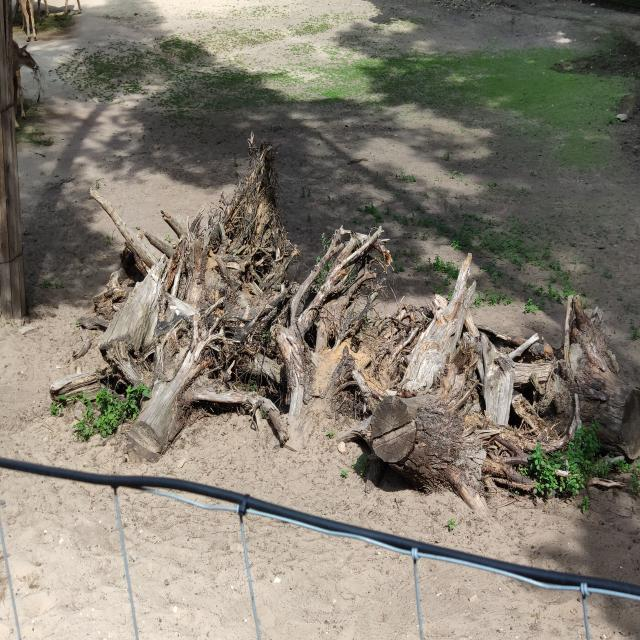restos de madeira: (360, 384, 503, 504), (545, 334, 640, 464), (188, 233, 290, 336), (88, 179, 187, 272), (304, 222, 388, 325), (400, 265, 462, 400), (485, 443, 619, 502), (402, 399, 472, 503), (96, 260, 167, 362), (473, 338, 533, 446), (317, 349, 386, 441), (354, 302, 437, 378), (196, 387, 284, 448), (271, 331, 312, 440), (232, 187, 283, 263), (51, 358, 140, 401), (177, 320, 216, 384), (289, 261, 329, 321), (483, 453, 538, 496), (511, 390, 552, 431), (508, 358, 556, 388), (156, 316, 184, 364), (316, 226, 347, 268), (329, 418, 372, 446), (194, 389, 254, 409), (350, 366, 378, 406), (506, 332, 540, 361), (199, 296, 226, 328), (582, 342, 608, 374), (570, 294, 589, 334), (580, 382, 609, 403), (493, 453, 532, 466), (71, 338, 94, 360), (572, 392, 582, 441), (474, 427, 502, 440)
